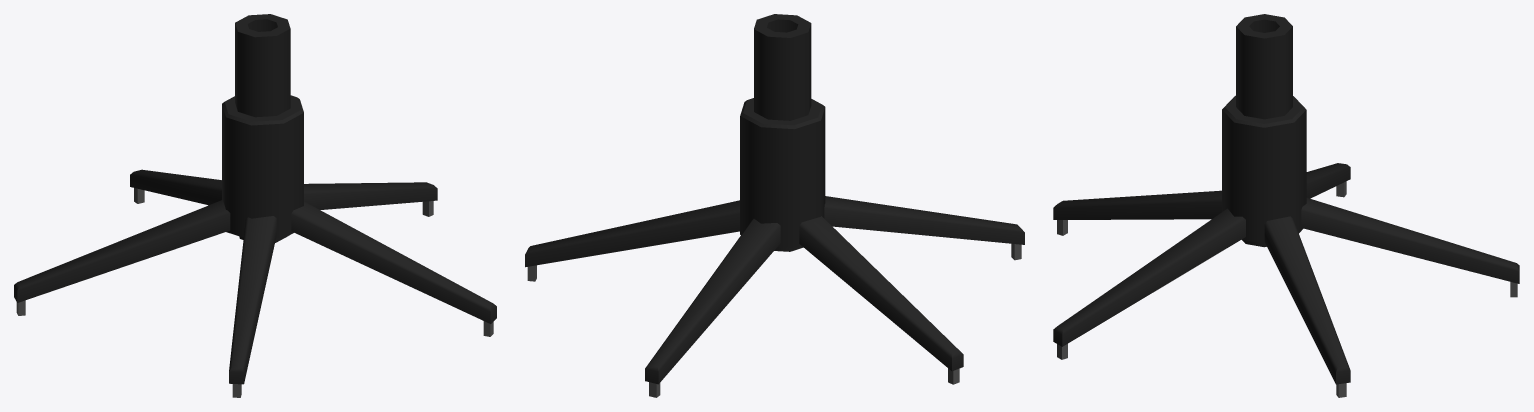
Rendered from Gaming_Chair_Base_Bottom_2.obj.
3 renders of one model, left to right at view 1: azimuth 30°, elevation 25°; view 2: azimuth 150°, elevation 25°; view 3: azimuth 270°, elevation 25°, orthographic. The views are drawn at different scales.
Visible parts, largest first — view 1: Gaming_Chair_Base_Bottom_2; view 2: Gaming_Chair_Base_Bottom_2; view 3: Gaming_Chair_Base_Bottom_2.
Boxes of the visible parts, x1=… form: Gaming_Chair_Base_Bottom_2: x1=14, y1=14, x2=496, y2=397; Gaming_Chair_Base_Bottom_2: x1=525, y1=14, x2=1024, y2=397; Gaming_Chair_Base_Bottom_2: x1=1053, y1=14, x2=1519, y2=397.
Bounding box in the file's own units: 0.7056 × 0.4276 × 0.671.
